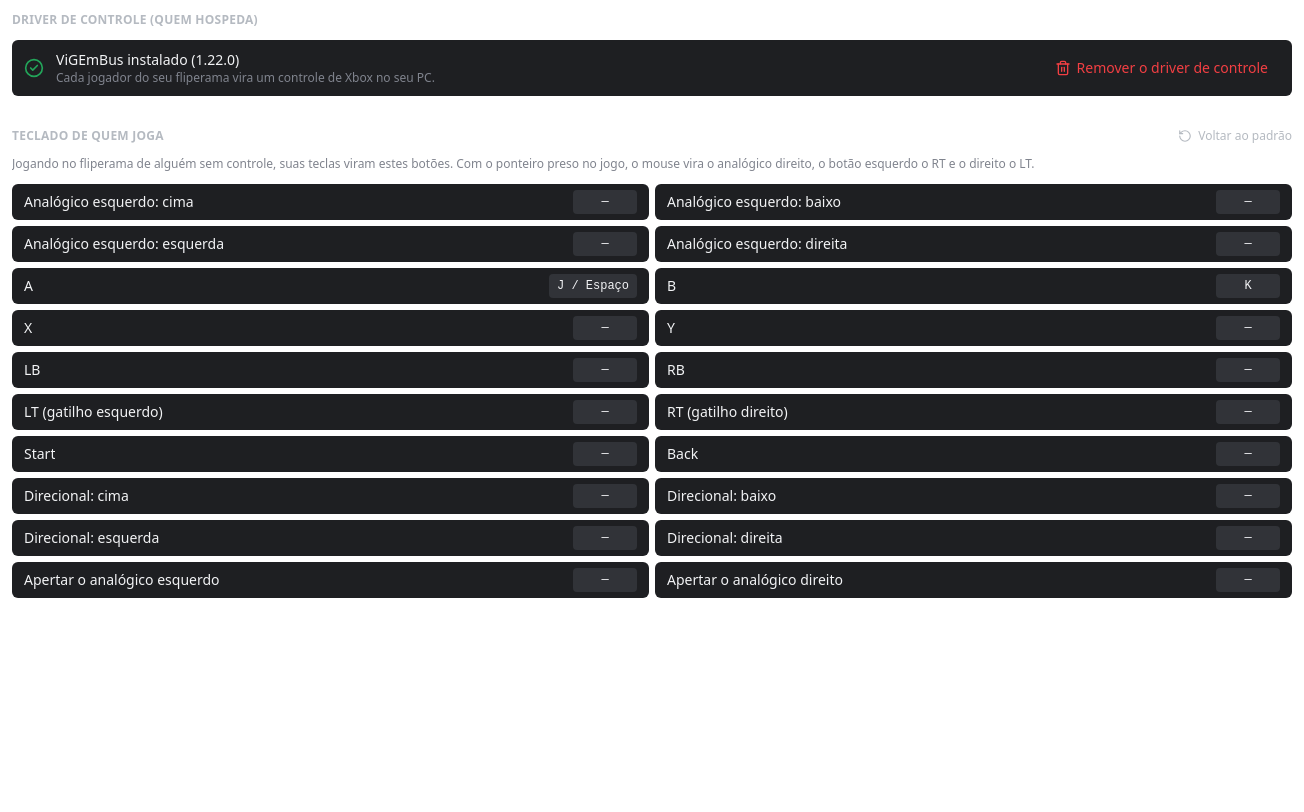
Test: Configurações › Fliperama › troca a tecla de um botão e salva
Click the button with aria-label "Trocar a tecla de A": (593, 286) [549,274,637,298]
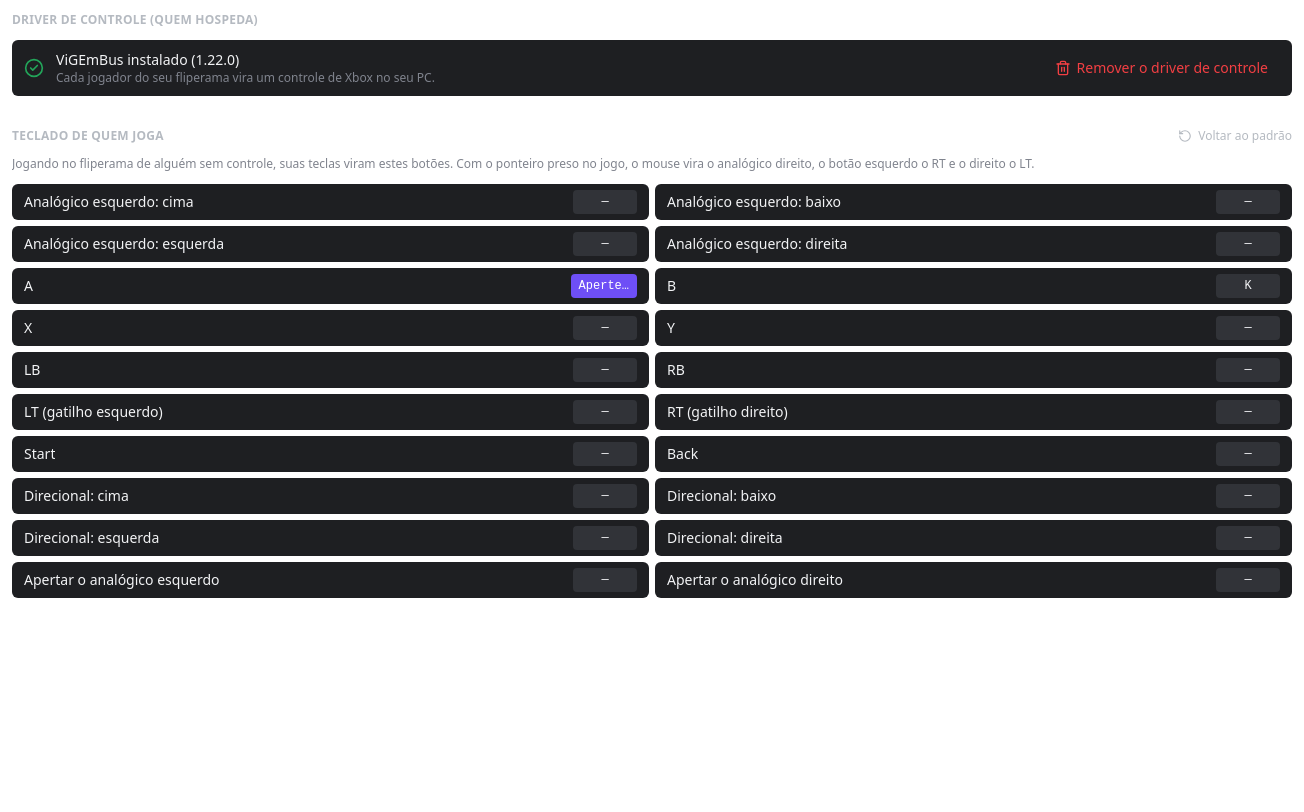
Expected: the button with aria-label "Trocar a tecla de A" reads "Aperte…", [571,274,637,298]
Press KeyZ
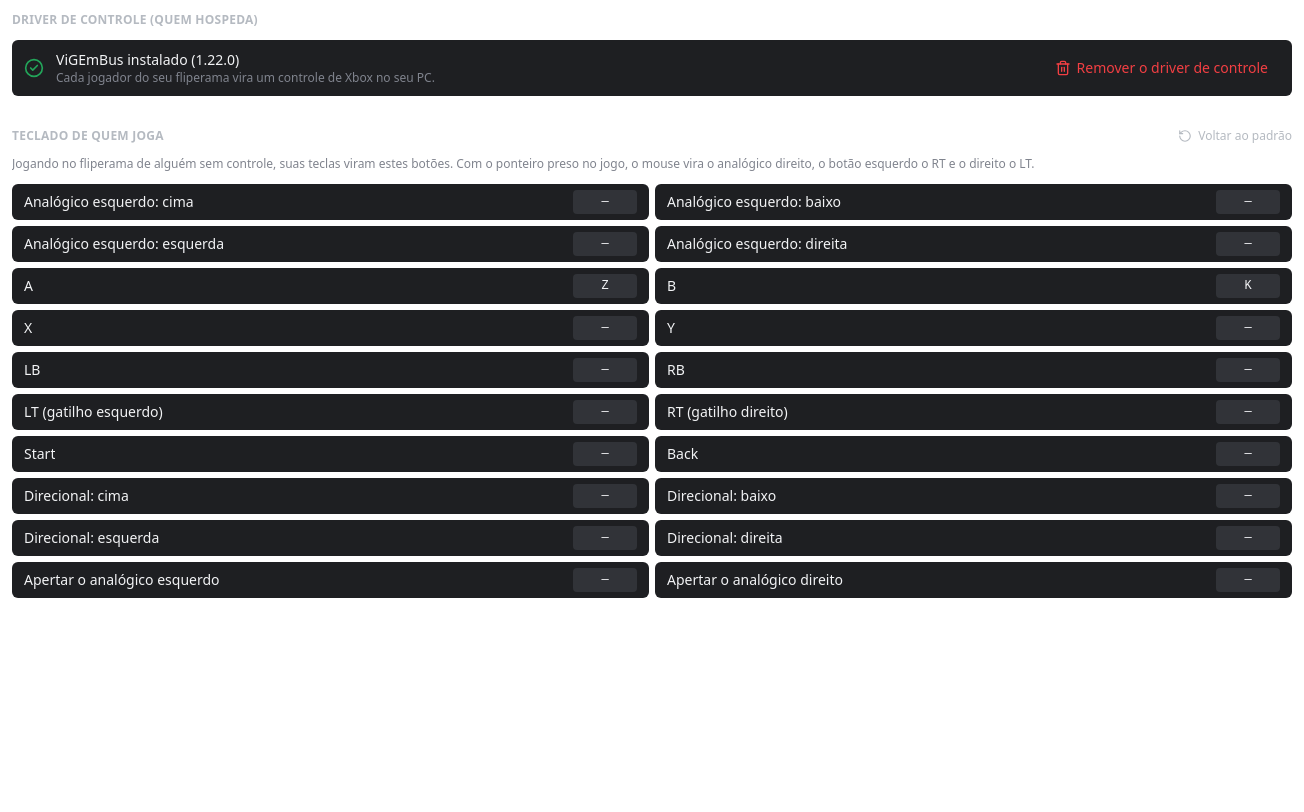
Expected: the button named "Trocar a tecla de A" reads "Z", [573,274,637,298]
